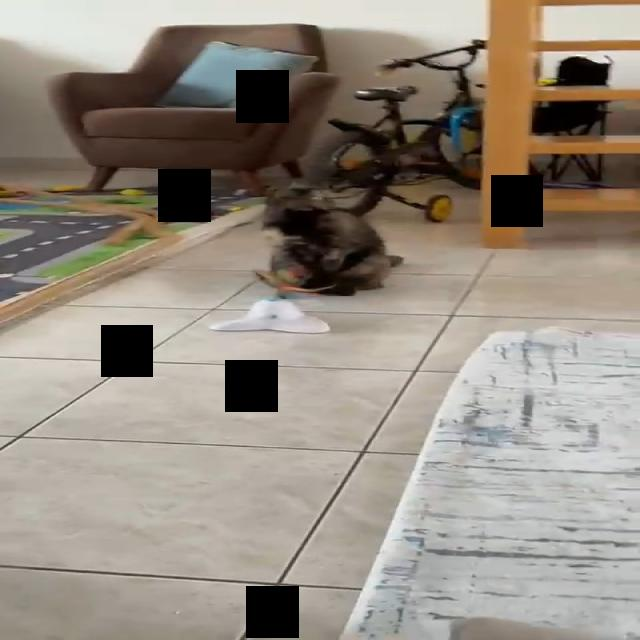authorized: (252, 185, 404, 297)
